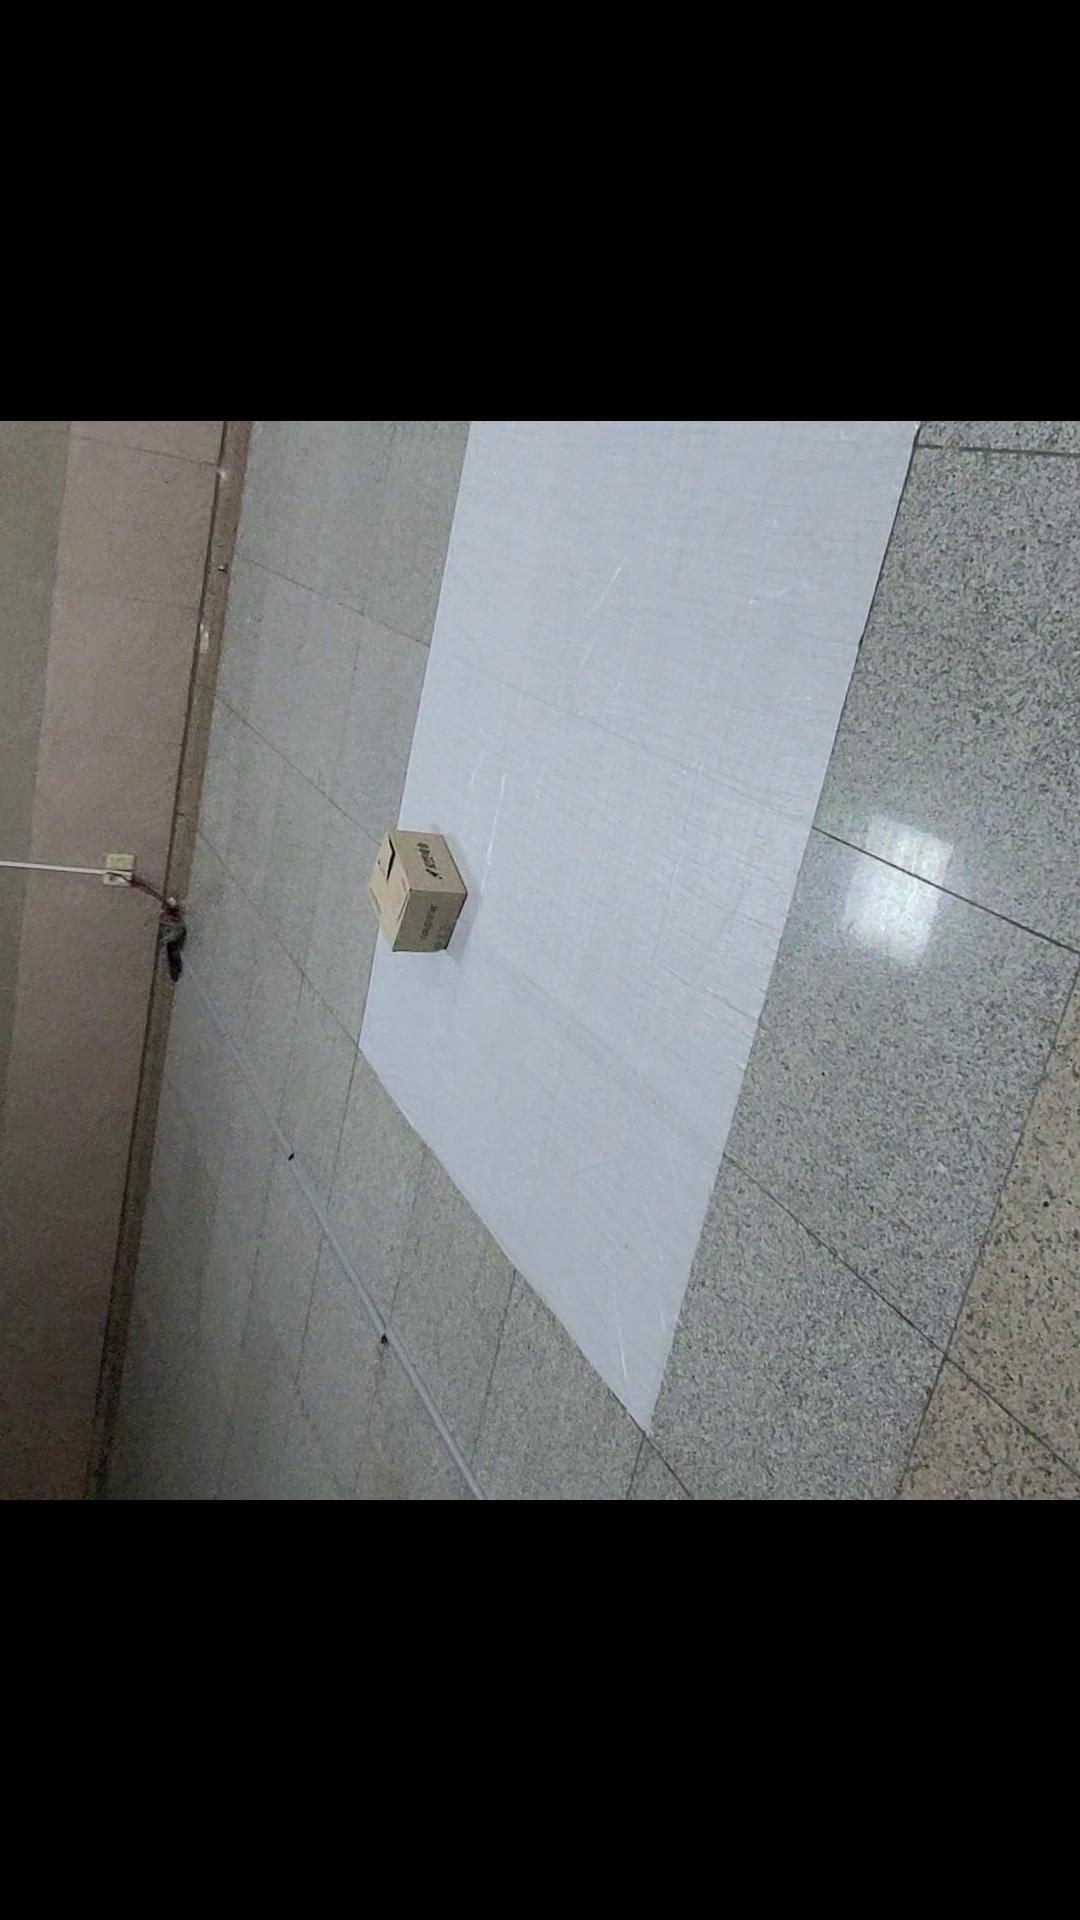Box: (348, 800, 493, 982)
